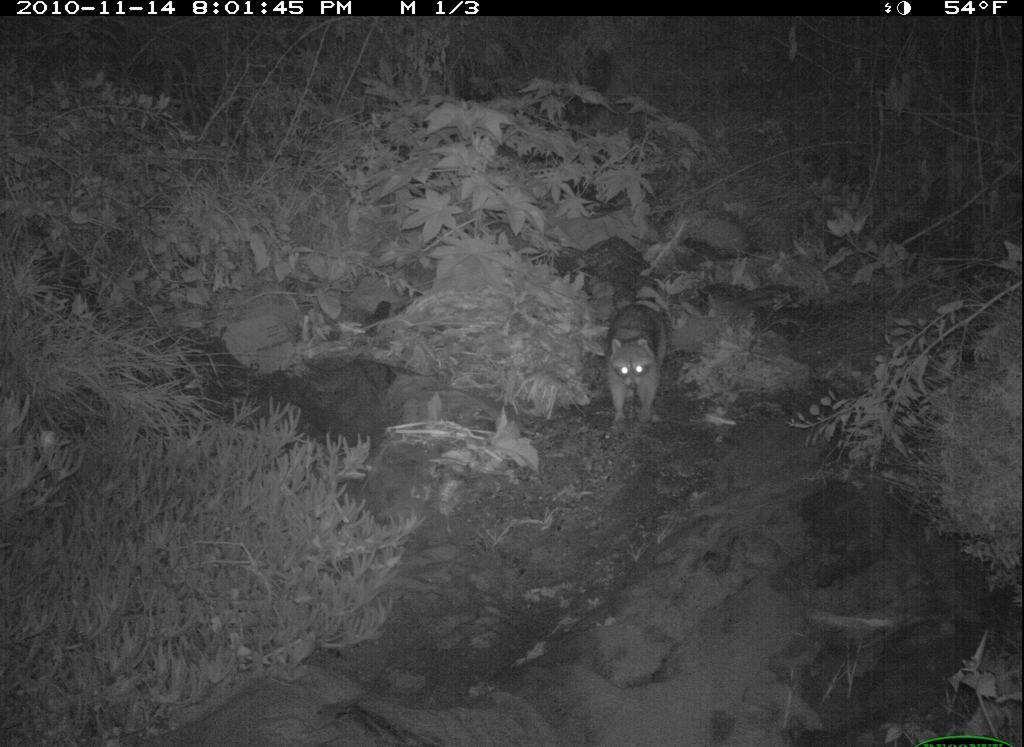raccoon: (601, 297, 683, 434)
